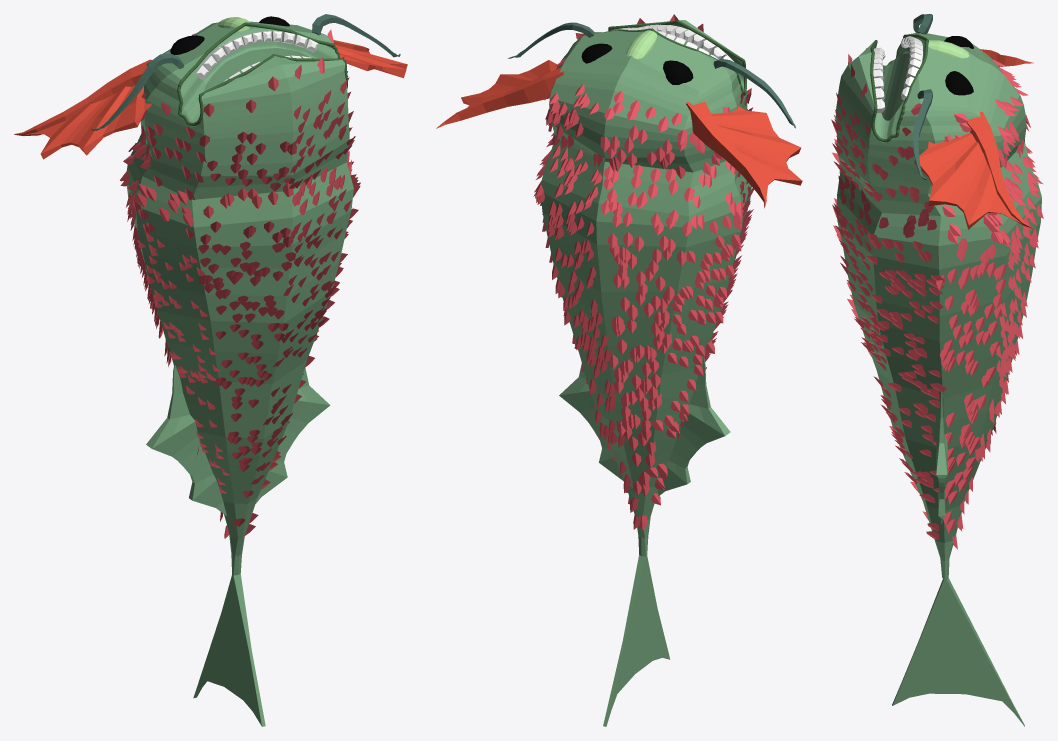
File: fish_monster_new_scale_rotation2.fbx
The picture shows the model from 3 angles, left to right: view 1: azimuth 30°, elevation 25°; view 2: azimuth 150°, elevation 25°; view 3: azimuth 270°, elevation 25°; orthographic projection. The views are drawn at different scales.
Parts seen in each view (by area): view 1: fish; view 2: fish; view 3: fish.
Boxes of the visible parts, x1,y1,x2,y2 form: fish: [14, 14, 407, 726]; fish: [436, 14, 802, 726]; fish: [831, 14, 1043, 726].
Bounding box in the file's own units: 0.9756 × 1.81 × 0.5088.
